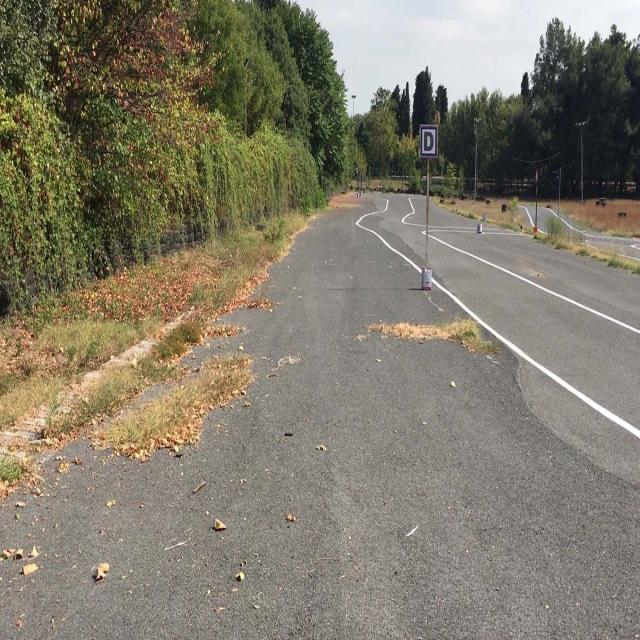durak: (420, 124, 438, 158)
